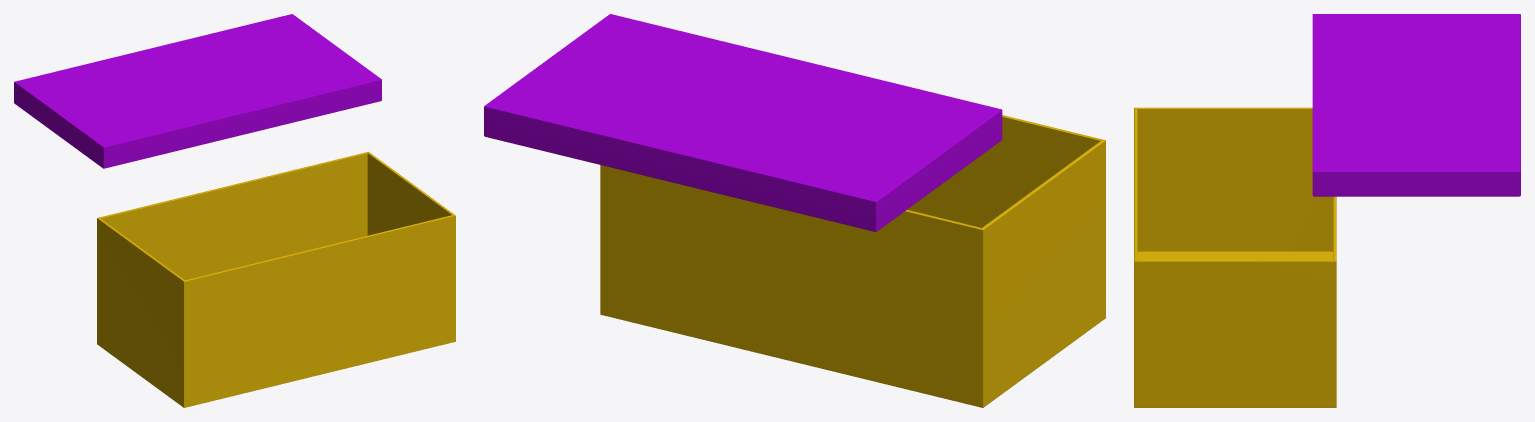
Rendered from Caixa_Mesh.fbx.
The picture shows the model from 3 angles, left to right: view 1: azimuth 30°, elevation 25°; view 2: azimuth 150°, elevation 25°; view 3: azimuth 270°, elevation 25°; orthographic projection. The views are drawn at different scales.
Parts seen in each view (by area): view 1: Base, Tampa; view 2: Base, Tampa; view 3: Base, Tampa.
Boxes of the visible parts, x1=… form: Base: x1=97, y1=151, x2=455, y2=407; Tampa: x1=14, y1=14, x2=381, y2=168; Base: x1=600, y1=115, x2=1105, y2=407; Tampa: x1=484, y1=14, x2=1002, y2=231; Base: x1=1134, y1=107, x2=1336, y2=407; Tampa: x1=1312, y1=14, x2=1520, y2=196.
Bounding box in the file's own units: 4.61 × 3.25 × 4.78.
